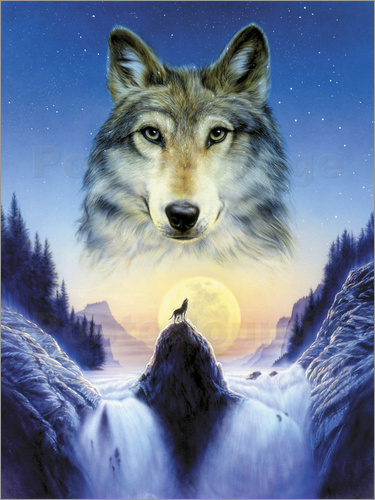wolf: (74, 24, 293, 260), (167, 294, 192, 326)
